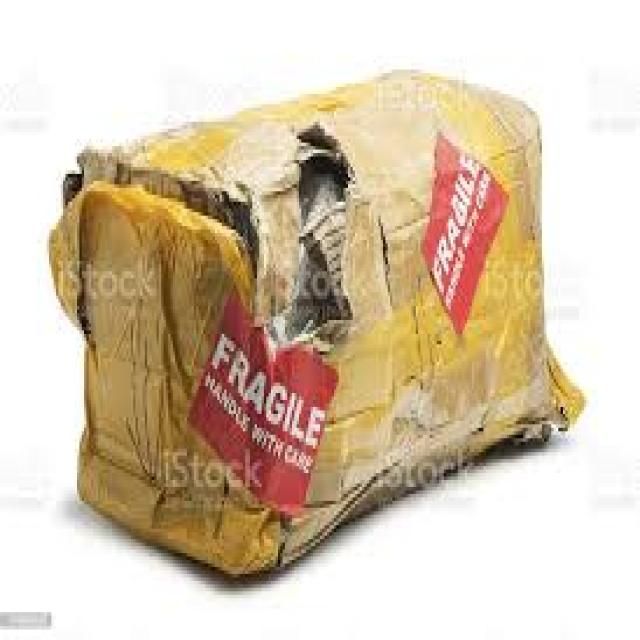Kardus kondisi rusak: (45, 64, 587, 585)
